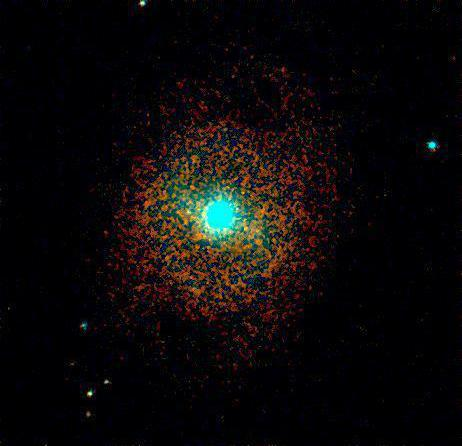star: (174, 199, 204, 229)
